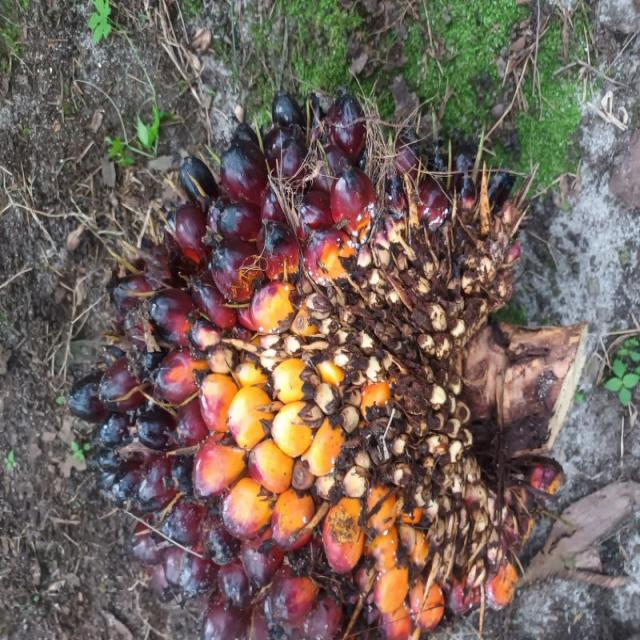fraksi 1: (8, 45, 421, 640)
